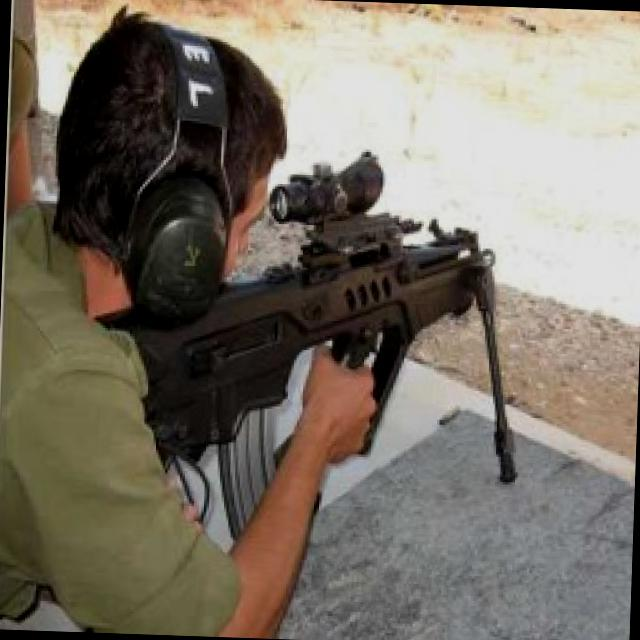long weapon: (217, 161, 539, 434)
